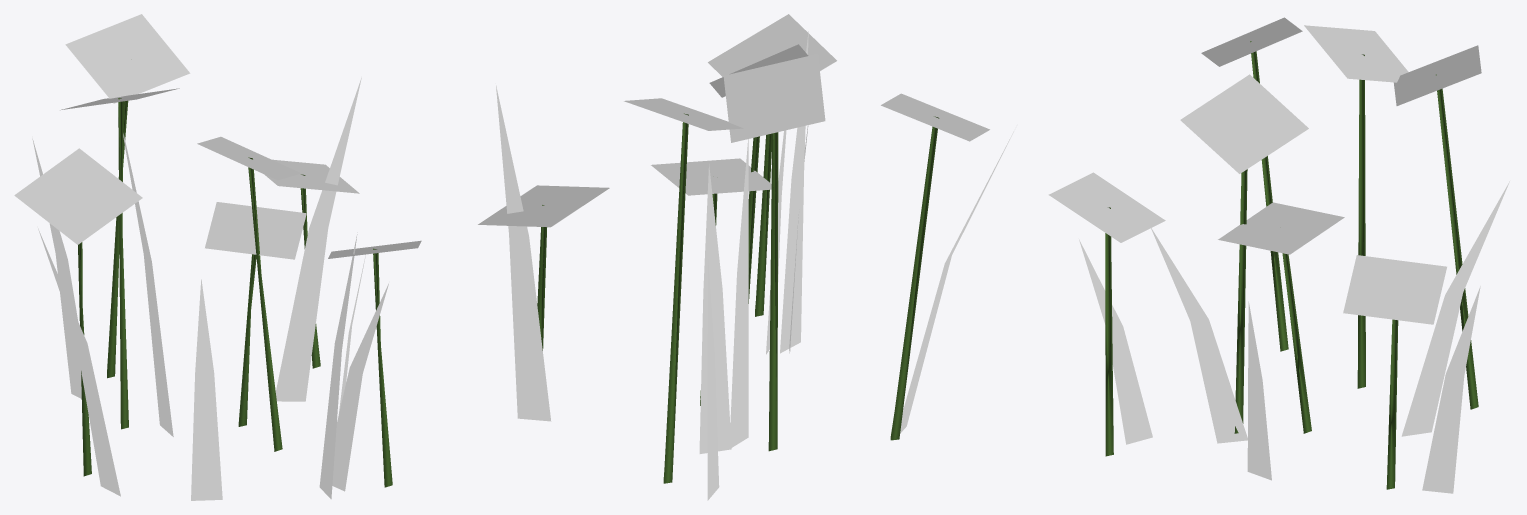
The model's file is wildflower_clump.gltf.
3 renders of one model, left to right at view 1: azimuth 30°, elevation 25°; view 2: azimuth 150°, elevation 25°; view 3: azimuth 270°, elevation 25°, orthographic. The views are drawn at different scales.
Parts seen in each view (by area): view 1: wildflower_clump_Grass_Blade, wildflower_clump_Bloom_Yellow, wildflower_clump_Stem_Green, wildflower_clump_Bloom_Red, wildflower_clump_Bloom_Cream, wildflower_clump_Bloom_Pink, wildflower_clump_Bloom_Violet; view 2: wildflower_clump_Grass_Blade, wildflower_clump_Stem_Green, wildflower_clump_Bloom_Violet, wildflower_clump_Bloom_Yellow, wildflower_clump_Bloom_Pink, wildflower_clump_Bloom_Red, wildflower_clump_Bloom_Cream; view 3: wildflower_clump_Grass_Blade, wildflower_clump_Stem_Green, wildflower_clump_Bloom_Violet, wildflower_clump_Bloom_Cream, wildflower_clump_Bloom_Pink, wildflower_clump_Bloom_Yellow, wildflower_clump_Bloom_Red.
Boxes of the visible parts, x1=… form: wildflower_clump_Grass_Blade: x1=32, y1=77, x2=388, y2=500; wildflower_clump_Bloom_Yellow: x1=14, y1=14, x2=190, y2=244; wildflower_clump_Stem_Green: x1=78, y1=98, x2=392, y2=487; wildflower_clump_Bloom_Red: x1=205, y1=202, x2=306, y2=259; wildflower_clump_Bloom_Cream: x1=197, y1=136, x2=301, y2=180; wildflower_clump_Bloom_Pink: x1=264, y1=159, x2=359, y2=193; wildflower_clump_Bloom_Violet: x1=60, y1=88, x2=421, y2=258; wildflower_clump_Grass_Blade: x1=496, y1=31, x2=1013, y2=500; wildflower_clump_Stem_Green: x1=537, y1=113, x2=939, y2=483; wildflower_clump_Bloom_Violet: x1=708, y1=14, x2=836, y2=142; wildflower_clump_Bloom_Yellow: x1=624, y1=93, x2=989, y2=141; wildflower_clump_Bloom_Pink: x1=478, y1=185, x2=609, y2=227; wildflower_clump_Bloom_Red: x1=651, y1=158, x2=771, y2=195; wildflower_clump_Bloom_Cream: x1=709, y1=44, x2=808, y2=97; wildflower_clump_Grass_Blade: x1=1079, y1=181, x2=1509, y2=493; wildflower_clump_Stem_Green: x1=1105, y1=41, x2=1478, y2=489; wildflower_clump_Bloom_Violet: x1=1048, y1=25, x2=1408, y2=242; wildflower_clump_Bloom_Cream: x1=1180, y1=74, x2=1308, y2=173; wildflower_clump_Bloom_Pink: x1=1343, y1=255, x2=1446, y2=324; wildflower_clump_Bloom_Yellow: x1=1201, y1=17, x2=1481, y2=105; wildflower_clump_Bloom_Red: x1=1218, y1=202, x2=1344, y2=254.
Bounding box in the file's own units: 1.04 × 0.8731 × 1.01.
